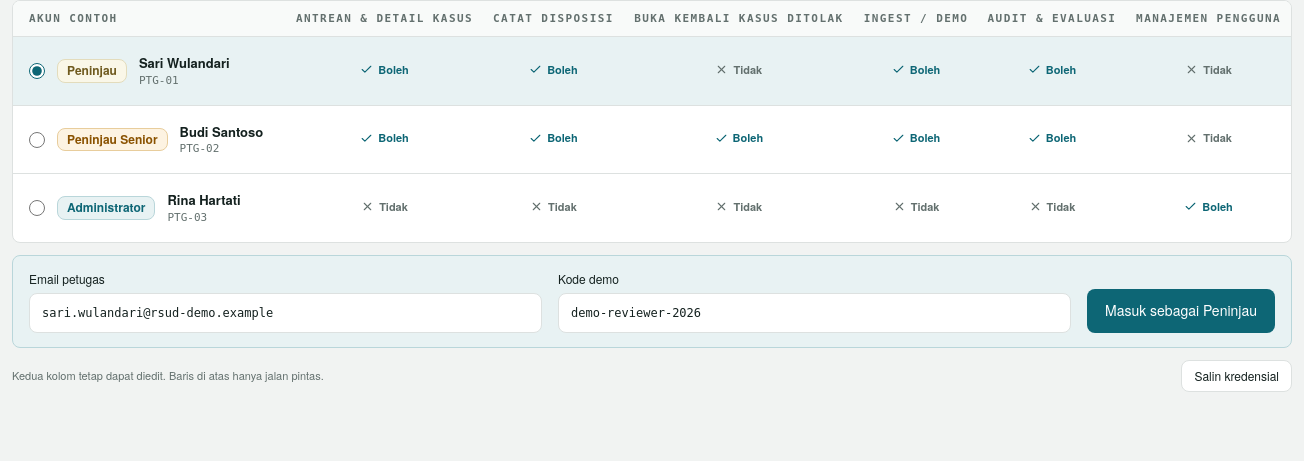
Test case: the matrix as the sign-in control › a refused sign-in is reported without losing what was typed
Click the button "Masuk sebagai Peninjau".
click(1181, 311)  # box [1087, 289, 1275, 333]
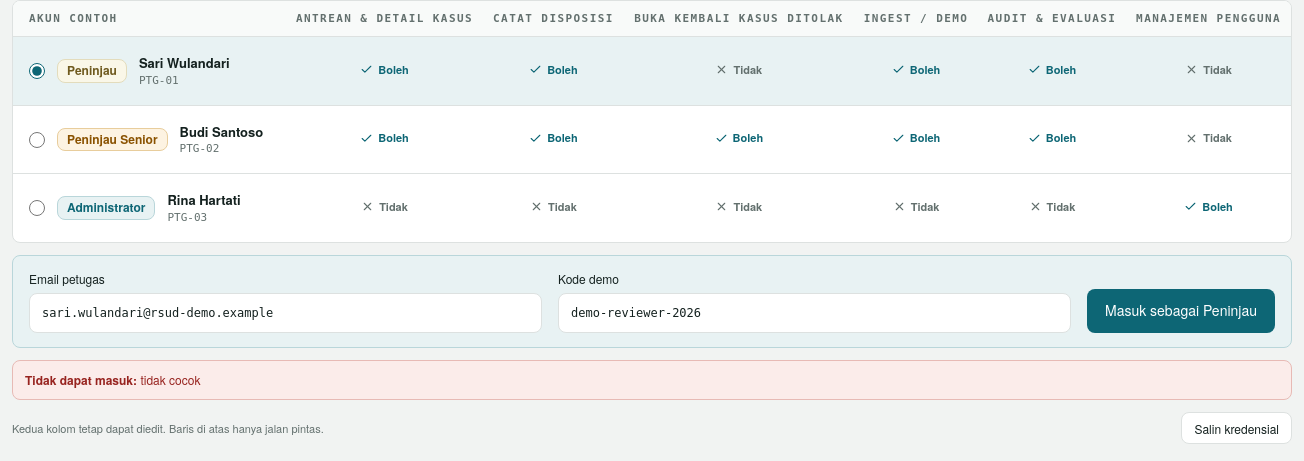
Expected: the field labelled "Email petugas" holds "sari.wulandari@rsud-demo.example", [29, 293, 542, 333]
Expected: the message shows "tidak cocok", [140, 371, 200, 388]
